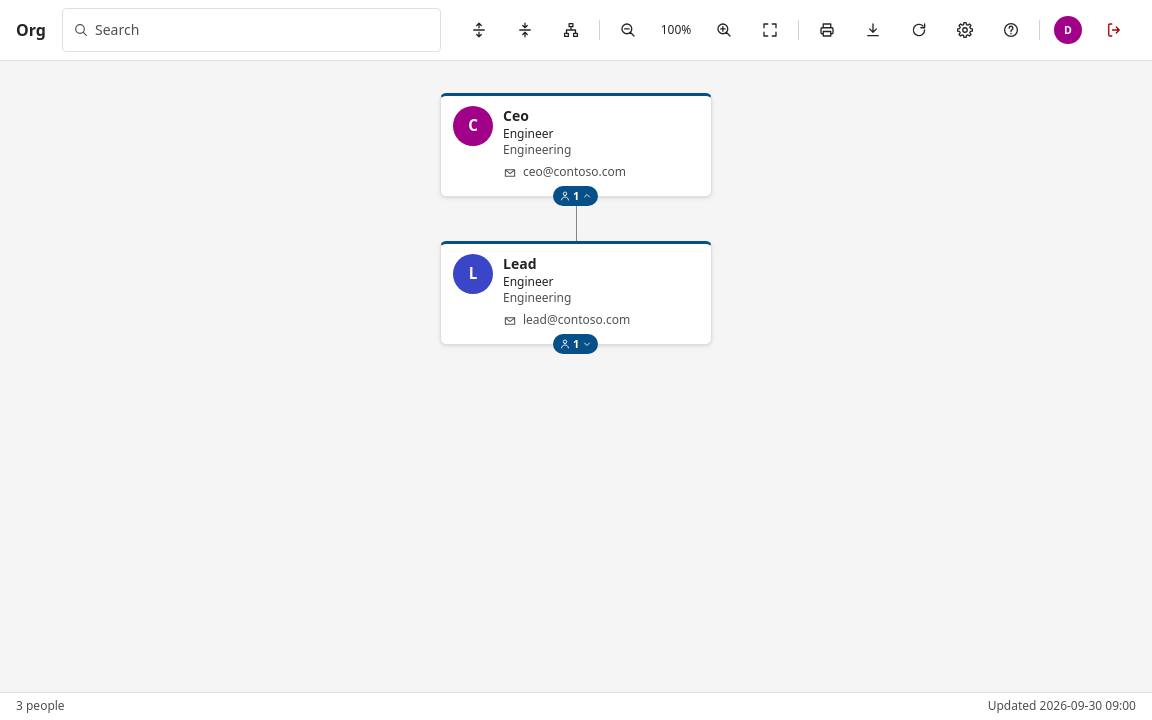
Test: OrgChartPage › the signed-in user › stands beside Sign out and opens the user's own card and details
Check: the footer is shown, box 0,692 -> 1151,719
Check: the footer does not show ""
Step 1. Click the button named "Signed in as " → (1068, 30), box 1046,8 -> 1090,52
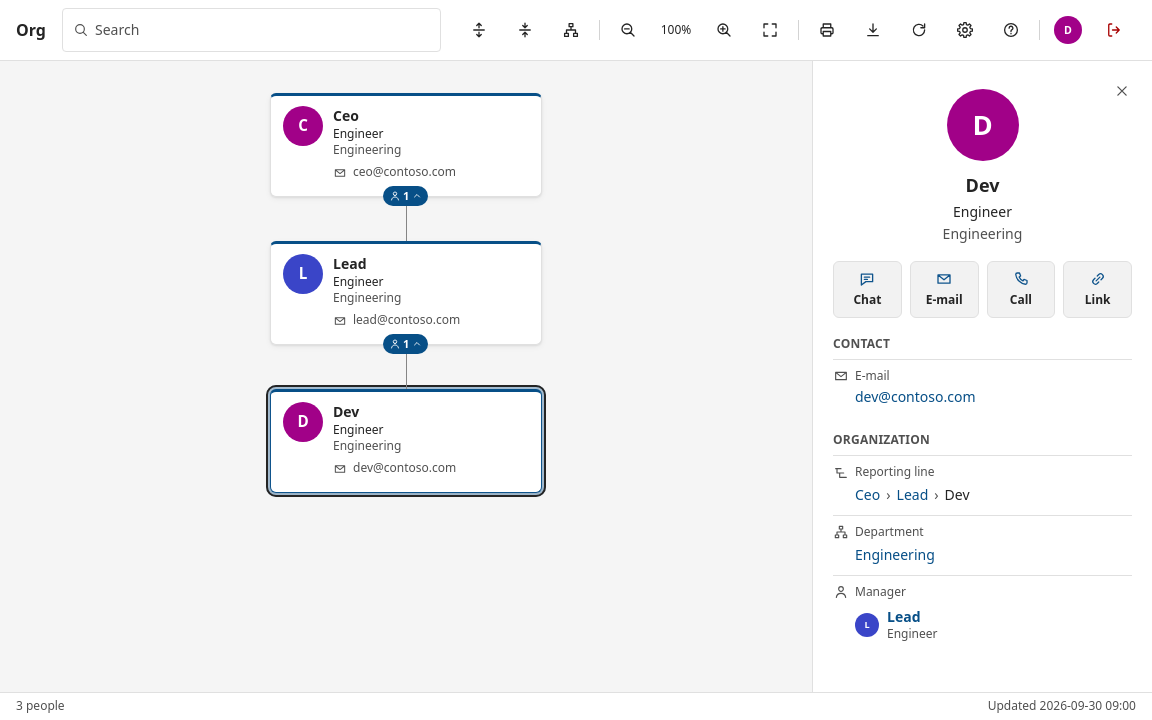
Check: the element named "Details for Dev" is shown, box 812,61 -> 1151,692
